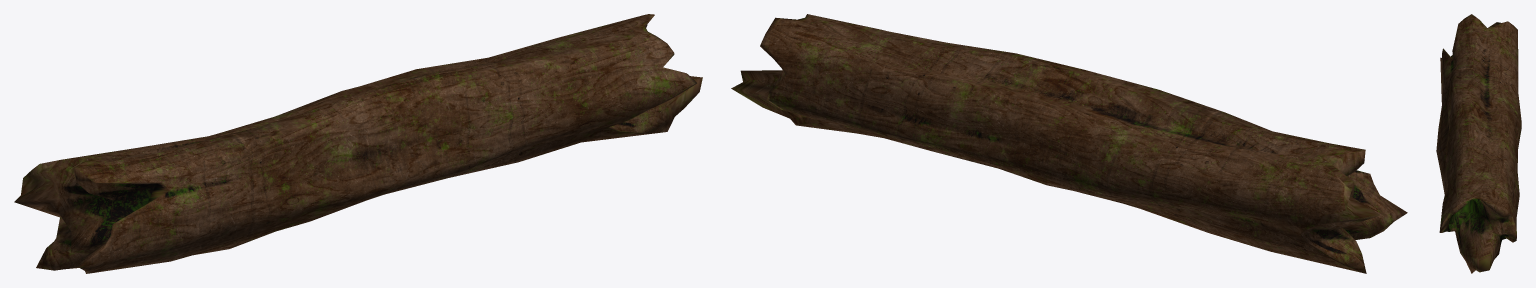
The model's file is mossy_log.gltf.
3 renders of one model, left to right at view 1: azimuth 30°, elevation 25°; view 2: azimuth 150°, elevation 25°; view 3: azimuth 270°, elevation 25°, orthographic. The views are drawn at different scales.
Visible parts, largest first — view 1: Log; view 2: Log; view 3: Log.
Part boxes in pixels (x1,y1,x2,y2): Log: [14, 14, 702, 273]; Log: [731, 14, 1407, 273]; Log: [1436, 14, 1521, 273].
Size of the model in its own units: 4.8 by 0.8586 by 0.8033.
